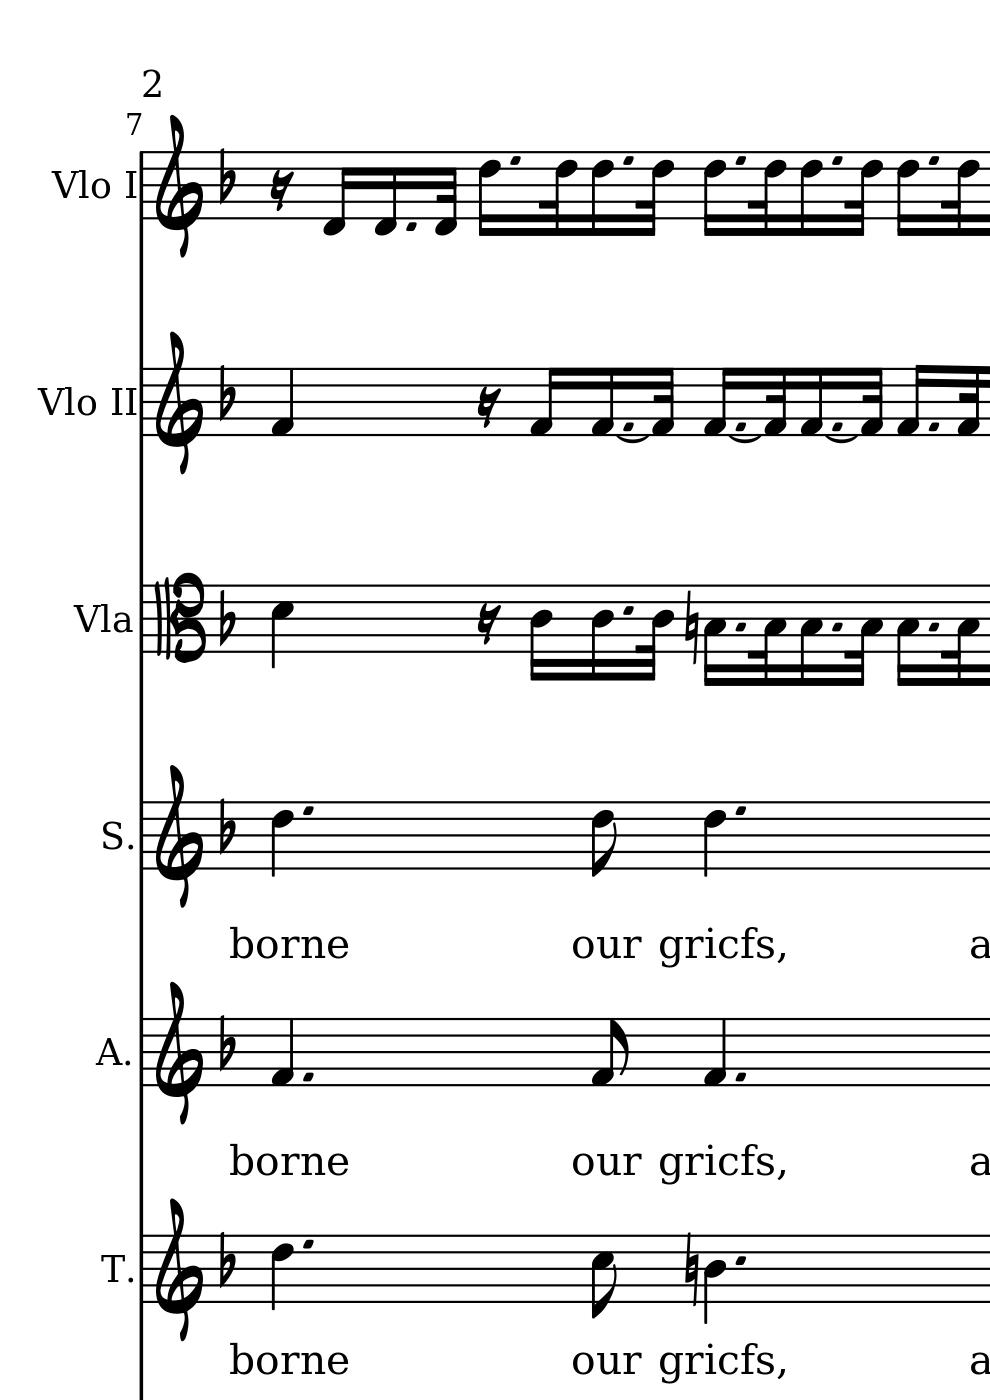16_-1: (321, 151, 354, 239), (372, 150, 397, 237)
16_1: (526, 366, 562, 437), (895, 364, 929, 439), (701, 366, 736, 438), (588, 365, 615, 438), (799, 366, 823, 439)
16_3: (796, 583, 826, 688), (894, 584, 922, 690), (701, 583, 727, 688)
16_4: (527, 582, 554, 684), (588, 583, 615, 684)
16_6: (588, 150, 616, 239), (701, 149, 727, 238), (798, 149, 825, 238), (477, 149, 502, 238), (894, 150, 919, 237)
2: (138, 67, 163, 99)
32_-1: (430, 150, 457, 236)
32_1: (955, 364, 981, 439), (761, 366, 787, 437), (858, 366, 884, 439), (649, 367, 675, 439)
32_3: (749, 581, 787, 690), (943, 582, 980, 688)
32_4: (636, 583, 674, 682), (847, 583, 883, 687)
32_6: (537, 150, 579, 238), (747, 150, 787, 237), (845, 149, 884, 239), (636, 149, 675, 238), (944, 150, 981, 239)
4_1: (268, 1017, 296, 1088), (702, 1017, 727, 1089), (268, 368, 295, 436)
4_4: (702, 1234, 726, 1323)
4_5: (268, 584, 295, 672)
4_6: (268, 800, 295, 880), (701, 801, 727, 879), (271, 1233, 292, 1312)
7: (124, 110, 142, 137)
8_1: (590, 1018, 631, 1088)
8_5: (589, 1234, 619, 1323)
8_6: (589, 800, 617, 879)
Cclef: (148, 570, 206, 667)
Flat: (217, 1013, 237, 1073), (219, 146, 237, 207), (217, 589, 236, 647), (217, 1231, 236, 1289), (217, 365, 236, 423), (217, 798, 235, 856)
Gclef: (153, 326, 206, 477), (151, 1196, 204, 1346), (153, 112, 206, 260), (154, 763, 204, 909), (154, 983, 205, 1126)
Natural: (679, 588, 700, 662), (682, 1232, 700, 1306)
Rests16: (474, 383, 502, 430), (476, 600, 501, 648), (269, 166, 292, 211)
Single_barline: (135, 585, 151, 653), (135, 1018, 151, 1086), (135, 802, 151, 870), (136, 1234, 151, 1304), (137, 368, 151, 436), (137, 152, 149, 220)
Slur: (727, 434, 762, 446), (614, 436, 652, 446), (826, 435, 858, 445)
Vla: (69, 594, 134, 642)
dot: (299, 1235, 318, 1253), (926, 150, 943, 168), (732, 802, 749, 819), (620, 602, 637, 618), (830, 153, 846, 169), (620, 418, 636, 434), (829, 418, 845, 434), (732, 1069, 748, 1085), (404, 220, 419, 236), (732, 153, 748, 168), (927, 419, 943, 434), (829, 620, 846, 634), (621, 154, 637, 168), (733, 419, 749, 433), (734, 619, 748, 634), (300, 803, 316, 816), (509, 154, 524, 167), (927, 619, 940, 634), (732, 1254, 748, 1266), (300, 1070, 314, 1082)
